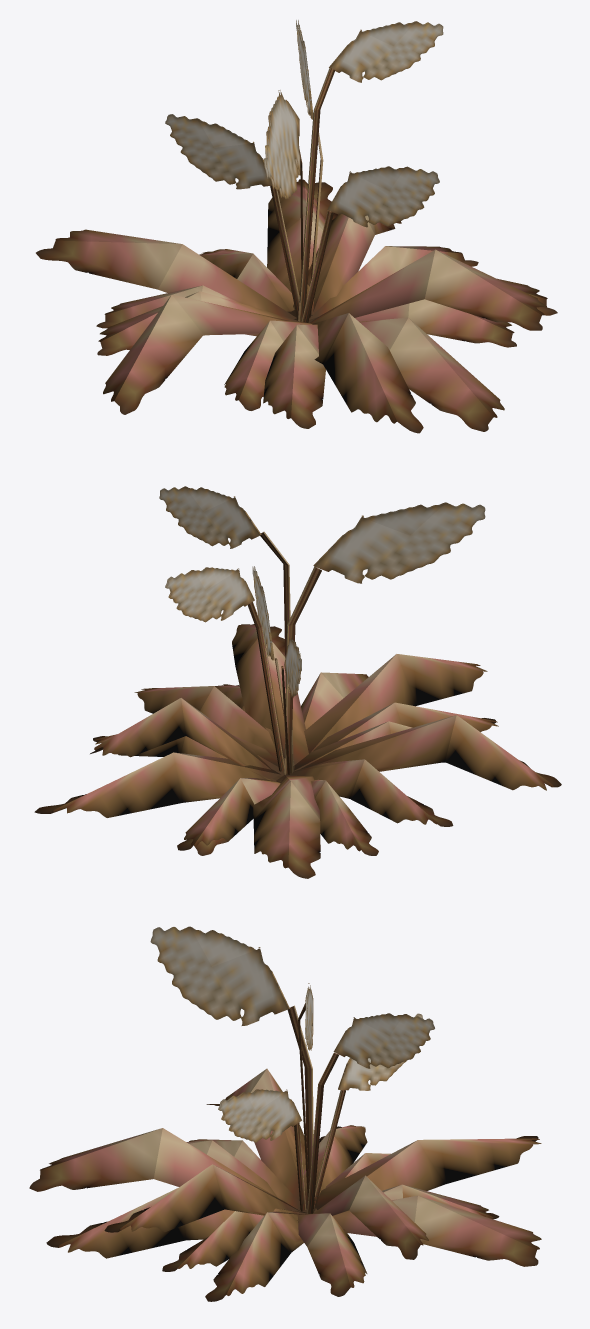
The model's file is Poly_Plant_03.obj.
3 views of the same model, one above another, from view 1: azimuth 30°, elevation 25°; view 2: azimuth 150°, elevation 25°; view 3: azimuth 270°, elevation 25° (orthographic). The views are drawn at different scales.
Visible parts, largest first — view 1: Plane, Plane.001; view 2: Plane, Plane.001; view 3: Plane, Plane.001.
Part boxes in pixels (x1,y1,x2,y2): Plane: (36, 179, 557, 433); Plane.001: (165, 20, 443, 322); Plane: (34, 624, 561, 878); Plane.001: (159, 486, 485, 774); Plane: (29, 1068, 541, 1301); Plane.001: (150, 926, 434, 1213).
Bounding box in the file's own units: 1.11 × 0.6706 × 1.21.
1 material, 1 textured.
